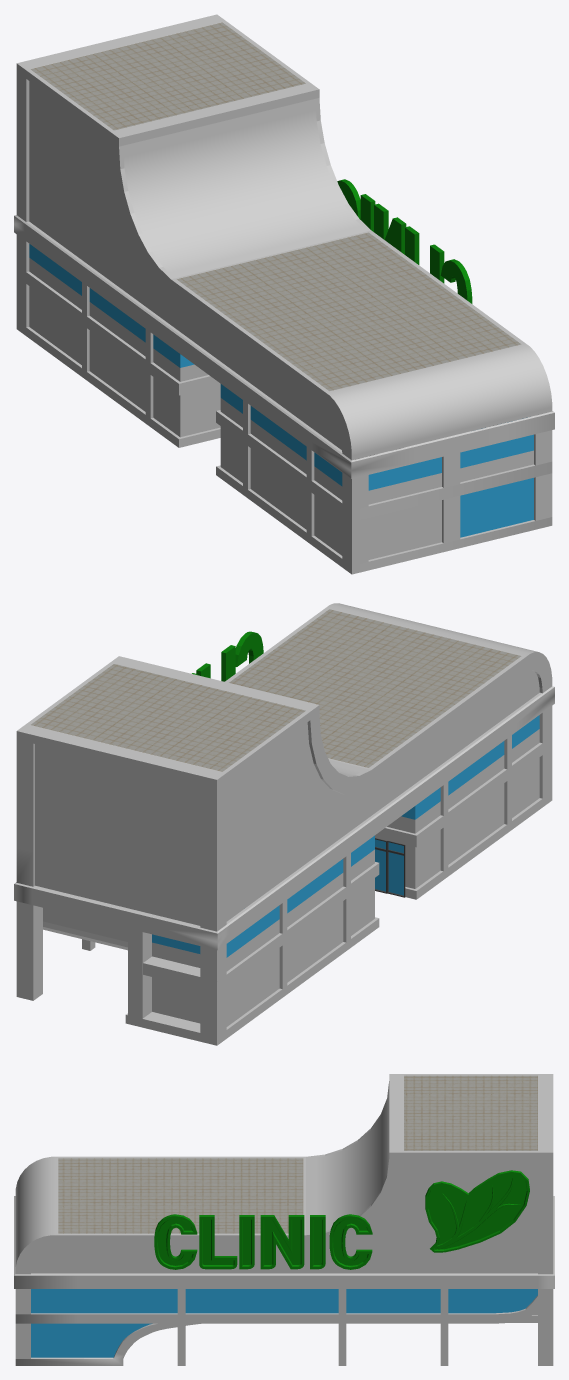
Rendered from Building_health_care (temp).fbx.
3 views of the same model, one above another, from view 1: azimuth 30°, elevation 25°; view 2: azimuth 150°, elevation 25°; view 3: azimuth 270°, elevation 25° (orthographic). The views are drawn at different scales.
Parts seen in each view (by area): view 1: tr_roof_low011, tl_ceil_low002, _glass, Logo; view 2: tr_roof_low011, tl_ceil_low002, _glass, Logo; view 3: tr_roof_low011, tl_ceil_low002, _glass, Logo.
Part boxes in pixels (x1=…): tr_roof_low011: x1=14, y1=14, x2=554, y2=574; tl_ceil_low002: x1=31, y1=22, x2=521, y2=391; _glass: x1=29, y1=244, x2=533, y2=537; Logo: x1=337, y1=179, x2=472, y2=303; tr_roof_low011: x1=14, y1=603, x2=554, y2=1045; tl_ceil_low002: x1=31, y1=609, x2=521, y2=771; _glass: x1=152, y1=715, x2=539, y2=957; Logo: x1=192, y1=631, x2=263, y2=681; tr_roof_low011: x1=14, y1=1074, x2=554, y2=1365; tl_ceil_low002: x1=58, y1=1075, x2=537, y2=1233; _glass: x1=31, y1=1289, x2=537, y2=1357; Logo: x1=154, y1=1170, x2=529, y2=1269.
Size of the model in its own units: 12.49 by 15.21 by 34.96.
